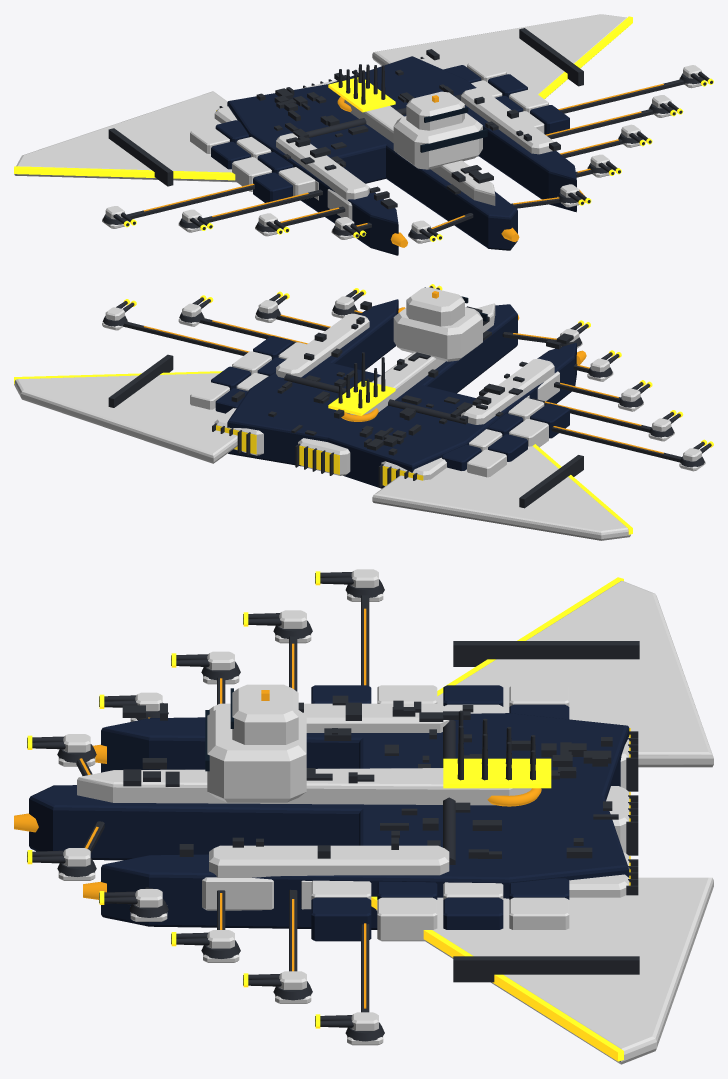
File: ship_sovereign.glb
3 renders of one model, top to bottom at view 1: azimuth 30°, elevation 25°; view 2: azimuth 150°, elevation 25°; view 3: azimuth 270°, elevation 25°, orthographic. The views are drawn at different scales.
Visible parts, largest first — view 1: secondary, primary, trim, accent, glow, glass; view 2: secondary, primary, trim, accent, glow, engine; view 3: secondary, primary, trim, accent, glow.
Part boxes in pixels (<box>): secondary: <box>14,14,705,243</box>; primary: <box>211,56,576,255</box>; trim: <box>103,28,712,241</box>; accent: <box>14,16,713,241</box>; glow: <box>143,83,663,247</box>; glass: <box>420,107,487,152</box>; secondary: <box>14,287,705,540</box>; primary: <box>211,299,576,488</box>; trim: <box>102,286,711,508</box>; accent: <box>14,284,713,534</box>; glow: <box>143,291,663,453</box>; engine: <box>216,425,423,485</box>; secondary: <box>58,569,713,1064</box>; primary: <box>29,685,629,941</box>; trim: <box>27,572,639,1041</box>; accent: <box>27,571,623,1061</box>; glow: <box>14,608,541,1008</box>.
Size of the model in its own units: 16.86 by 2.61 by 10.49.
